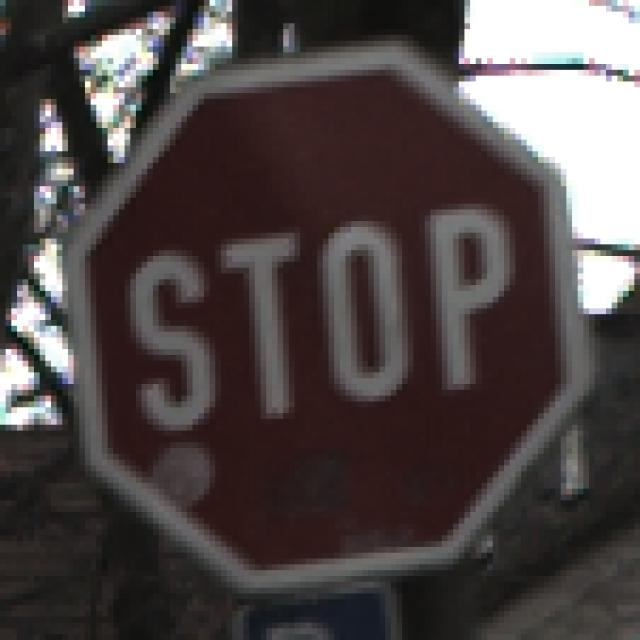STOP: (58, 53, 590, 589)
